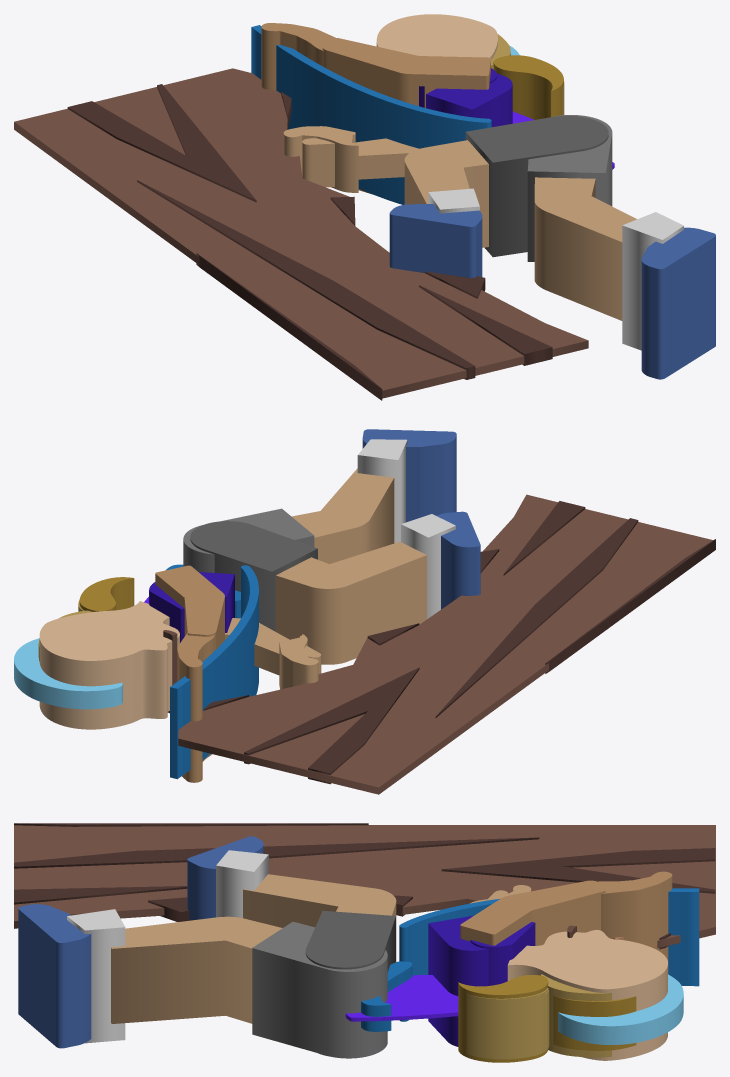
File: emoji_u1f9d7_1f3fc_200d_2640.glb
The picture shows the model from 3 angles, top to bottom: view 1: azimuth 30°, elevation 25°; view 2: azimuth 150°, elevation 25°; view 3: azimuth 270°, elevation 25°; orthographic projection. The views are drawn at different scales.
Parts seen in each view (by area): view 1: emoji_u1f9d7_1f3fc_200d_2640; view 2: emoji_u1f9d7_1f3fc_200d_2640; view 3: emoji_u1f9d7_1f3fc_200d_2640.
Boxes of the visible parts, left/top/right/bottom form: emoji_u1f9d7_1f3fc_200d_2640: left=14, top=14, right=715, bottom=400; emoji_u1f9d7_1f3fc_200d_2640: left=14, top=429, right=715, bottom=794; emoji_u1f9d7_1f3fc_200d_2640: left=14, top=823, right=715, bottom=1062.
Bounding box in the file's own units: 0.0236 × 0.0066 × 0.0338.
